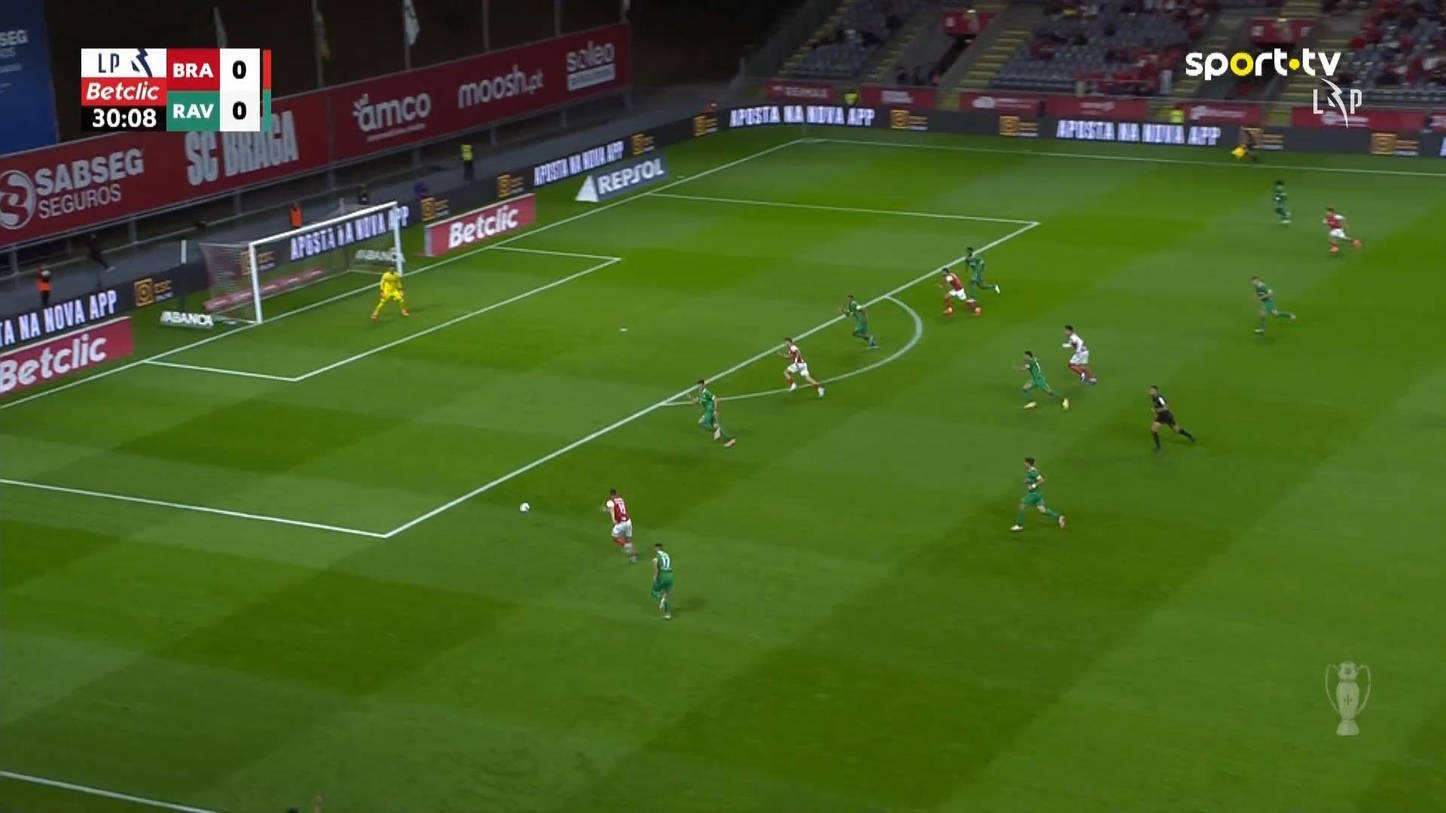ball: (519, 502, 529, 513)
goalkeeper: (370, 265, 410, 320)
player: (1009, 455, 1066, 531), (687, 378, 736, 448), (776, 336, 825, 397), (1011, 349, 1060, 409), (603, 487, 638, 564), (1250, 275, 1295, 334), (1061, 324, 1097, 385), (936, 266, 980, 315), (841, 294, 878, 349), (650, 541, 674, 620), (1321, 206, 1361, 253), (963, 245, 1001, 294), (1271, 178, 1292, 225)
referee: (1146, 384, 1194, 453), (1232, 126, 1259, 165)
